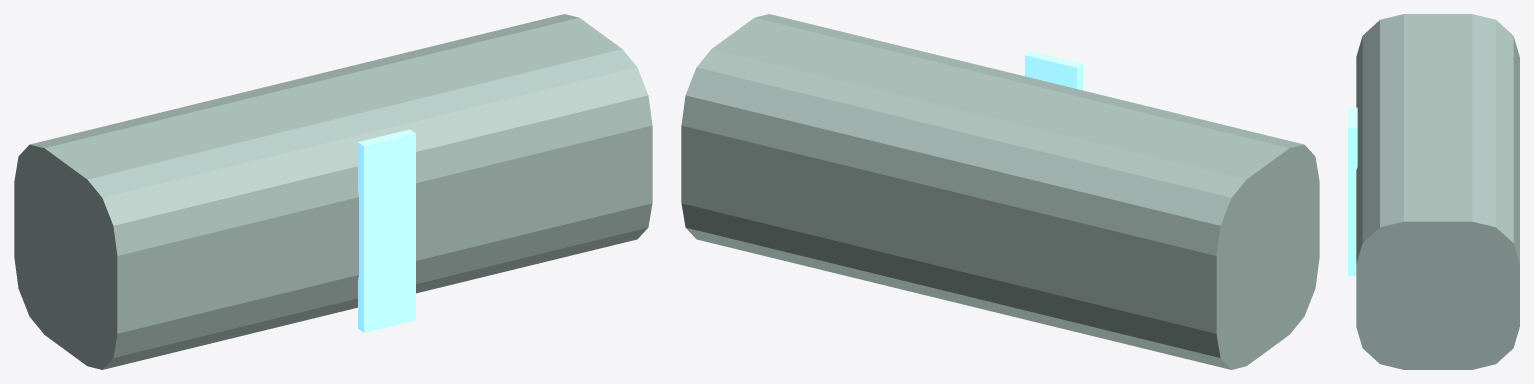
Rendered from Door_LeafFolded.gltf.
The picture shows the model from 3 angles, left to right: view 1: azimuth 30°, elevation 25°; view 2: azimuth 150°, elevation 25°; view 3: azimuth 270°, elevation 25°; orthographic projection. The views are drawn at different scales.
Visible parts, largest first — view 1: Door_LeafFolded_baked; view 2: Door_LeafFolded_baked; view 3: Door_LeafFolded_baked.
Part boxes in pixels (x1=…): Door_LeafFolded_baked: x1=14, y1=14, x2=652, y2=369; Door_LeafFolded_baked: x1=681, y1=14, x2=1319, y2=369; Door_LeafFolded_baked: x1=1348, y1=14, x2=1519, y2=369.
Size of the model in its own units: 0.72 by 0.24 by 0.252.
